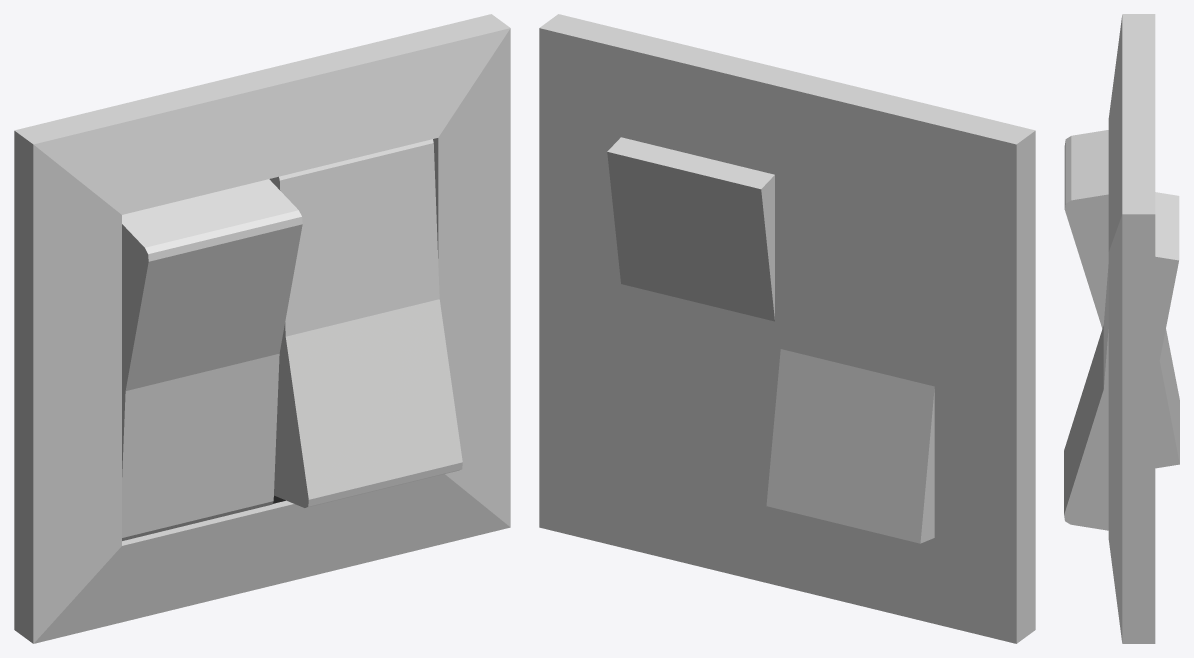
The model's file is Wallswitch(01).fbx.
3 views of the same model, side by side, from view 1: azimuth 30°, elevation 25°; view 2: azimuth 150°, elevation 25°; view 3: azimuth 270°, elevation 25° (orthographic). The views are drawn at different scales.
Visible parts, largest first — view 1: Wallswitch(01); view 2: Wallswitch(01); view 3: Wallswitch(01).
Part boxes in pixels (x1,y1,x2,y2): Wallswitch(01): (14, 14, 510, 643); Wallswitch(01): (539, 14, 1035, 643); Wallswitch(01): (1064, 14, 1179, 643).
Size of the model in its own units: 11.67 by 11.67 by 2.85.
